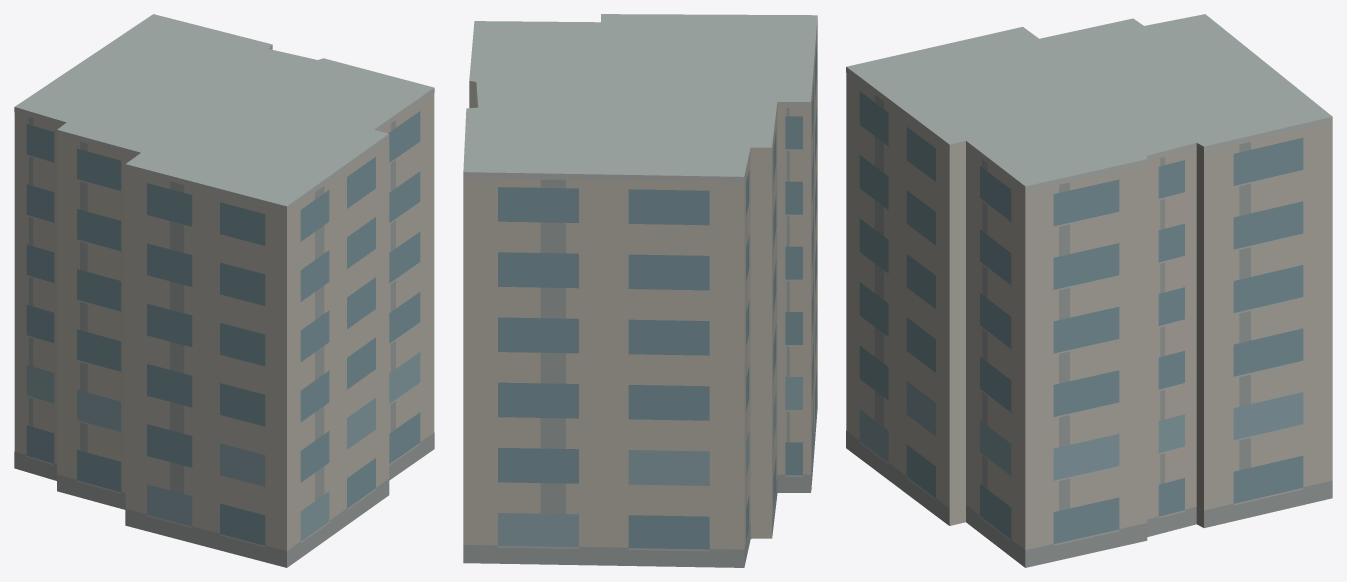
Rendered from survey-upis-32889387.glb.
3 renders of one model, left to right at view 1: azimuth 30°, elevation 25°; view 2: azimuth 150°, elevation 25°; view 3: azimuth 270°, elevation 25°, orthographic. The views are drawn at different scales.
Parts seen in each view (by area): view 1: survey-upis-32889387.tmp; view 2: survey-upis-32889387.tmp; view 3: survey-upis-32889387.tmp.
Part boxes in pixels (left/top/right/bottom): survey-upis-32889387.tmp: left=14, top=14, right=434, bottom=567; survey-upis-32889387.tmp: left=463, top=14, right=817, bottom=567; survey-upis-32889387.tmp: left=846, top=14, right=1332, bottom=567.
Size of the model in its own units: 15.22 by 15.7 by 18.16.
